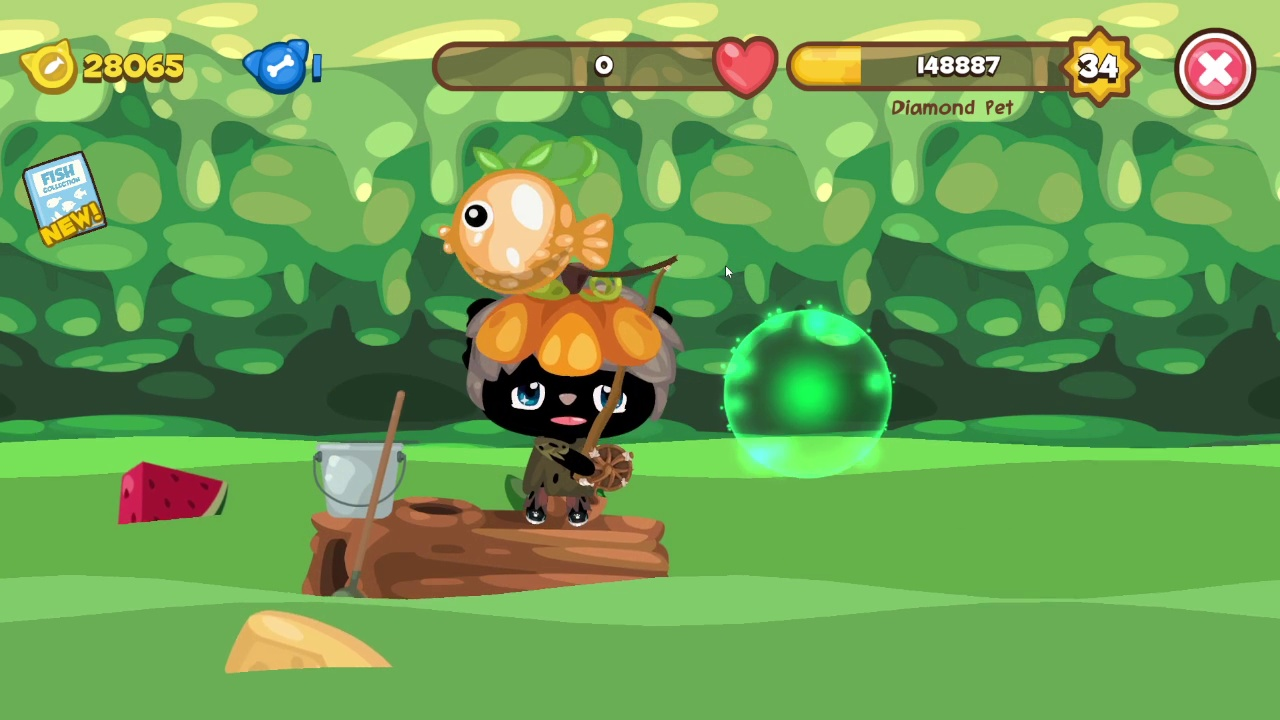point: (723, 306, 894, 483)
